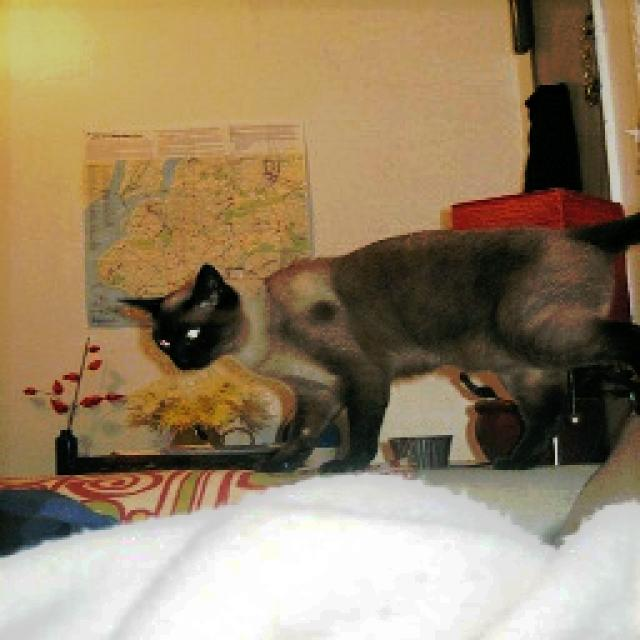cat: (112, 212, 640, 470)
